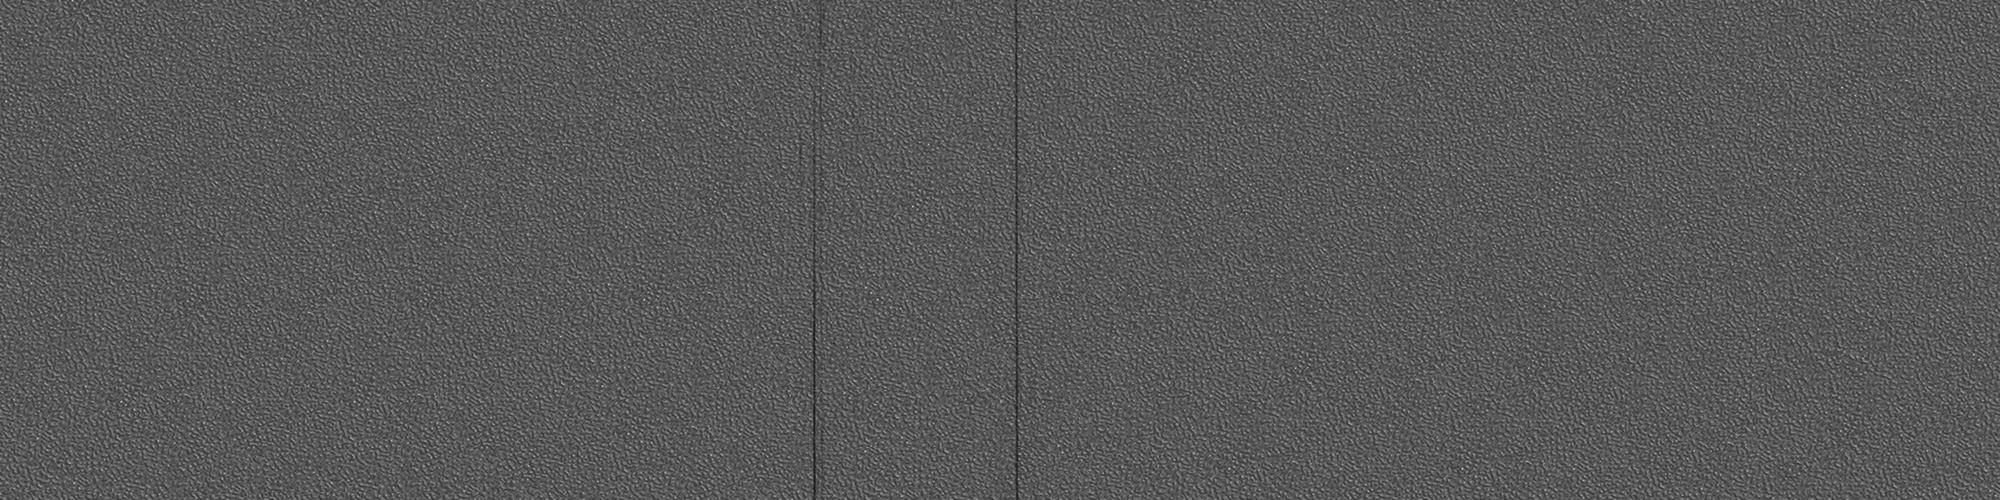DieDrag: (798, 4, 837, 499), (1005, 5, 1033, 500)
